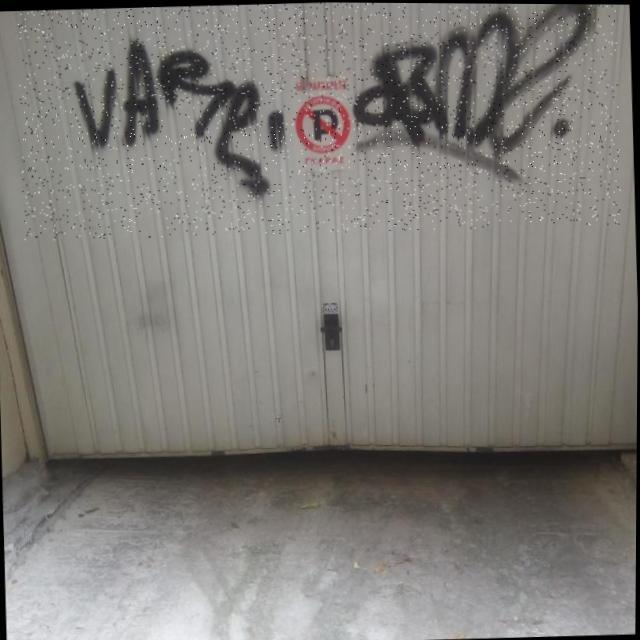-: (16, 0, 623, 244)
